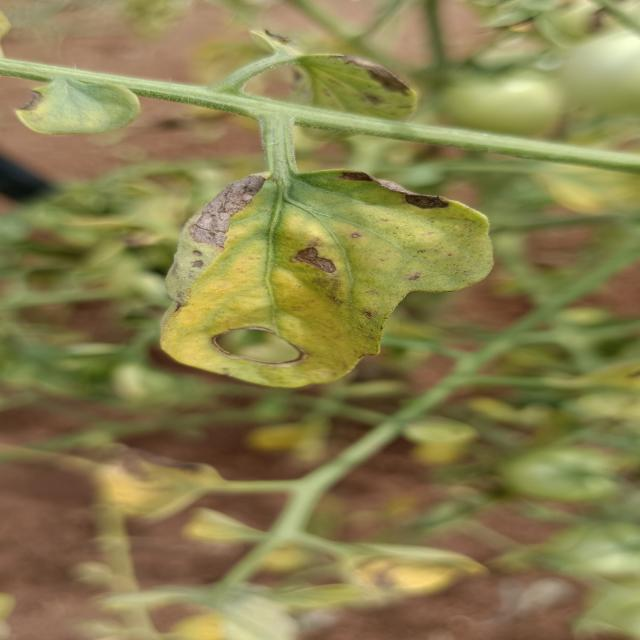tomato_early blight: (168, 162, 495, 390), (252, 30, 434, 146), (99, 451, 231, 521)
